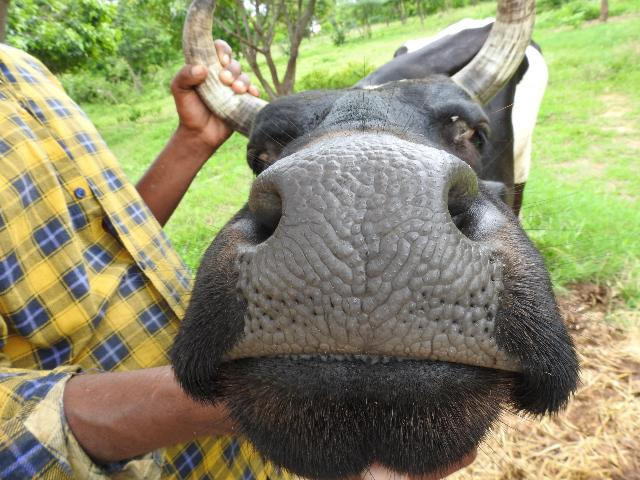Muzzle: (264, 150, 460, 354)
